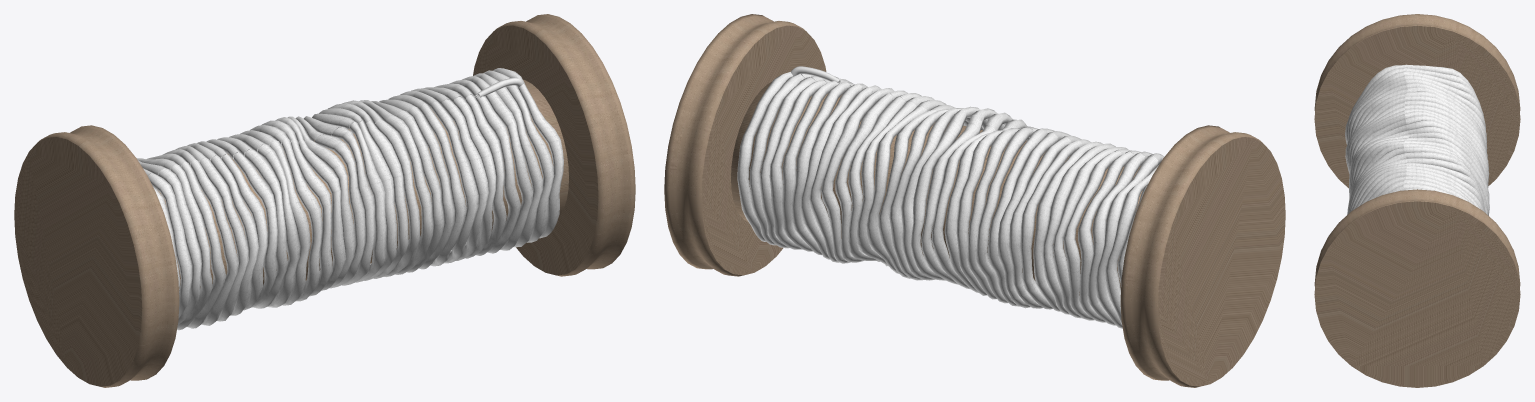
The model's file is hilo_lino_v021.glb.
3 views of the same model, side by side, from view 1: azimuth 30°, elevation 25°; view 2: azimuth 150°, elevation 25°; view 3: azimuth 270°, elevation 25° (orthographic). The views are drawn at different scales.
Parts seen in each view (by area): view 1: hand_wound_natural_linen_thread_36_turns, hardwood_spool_left_flange, hardwood_spool_right_flange, hardwood_spool_core; view 2: hand_wound_natural_linen_thread_36_turns, hardwood_spool_left_flange, hardwood_spool_right_flange, hardwood_spool_core; view 3: hardwood_spool_right_flange, hand_wound_natural_linen_thread_36_turns, hardwood_spool_left_flange.
Boxes of the visible parts, bbox=[...] form: hand_wound_natural_linen_thread_36_turns: bbox=[137, 68, 563, 330]; hardwood_spool_left_flange: bbox=[14, 125, 179, 387]; hardwood_spool_right_flange: bbox=[473, 14, 635, 276]; hardwood_spool_core: bbox=[157, 79, 568, 290]; hand_wound_natural_linen_thread_36_turns: bbox=[737, 72, 1164, 328]; hardwood_spool_left_flange: bbox=[1120, 125, 1285, 387]; hardwood_spool_right_flange: bbox=[664, 14, 826, 276]; hardwood_spool_core: bbox=[731, 82, 1142, 295]; hardwood_spool_right_flange: bbox=[1314, 189, 1520, 387]; hand_wound_natural_linen_thread_36_turns: bbox=[1345, 64, 1489, 215]; hardwood_spool_left_flange: bbox=[1314, 14, 1520, 188].
Bounding box in the file's own units: 0.604 × 0.278 × 0.278.
Materials: 2 (2 with a texture image).
